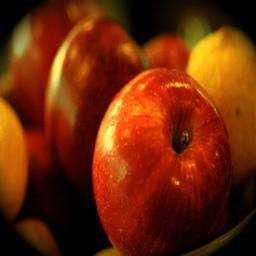apple: (93, 65, 231, 254)
